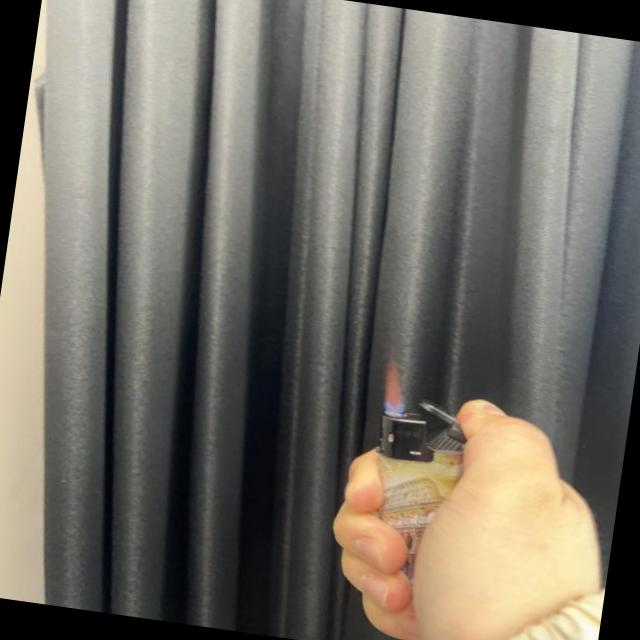Fire: (379, 354, 412, 416)
